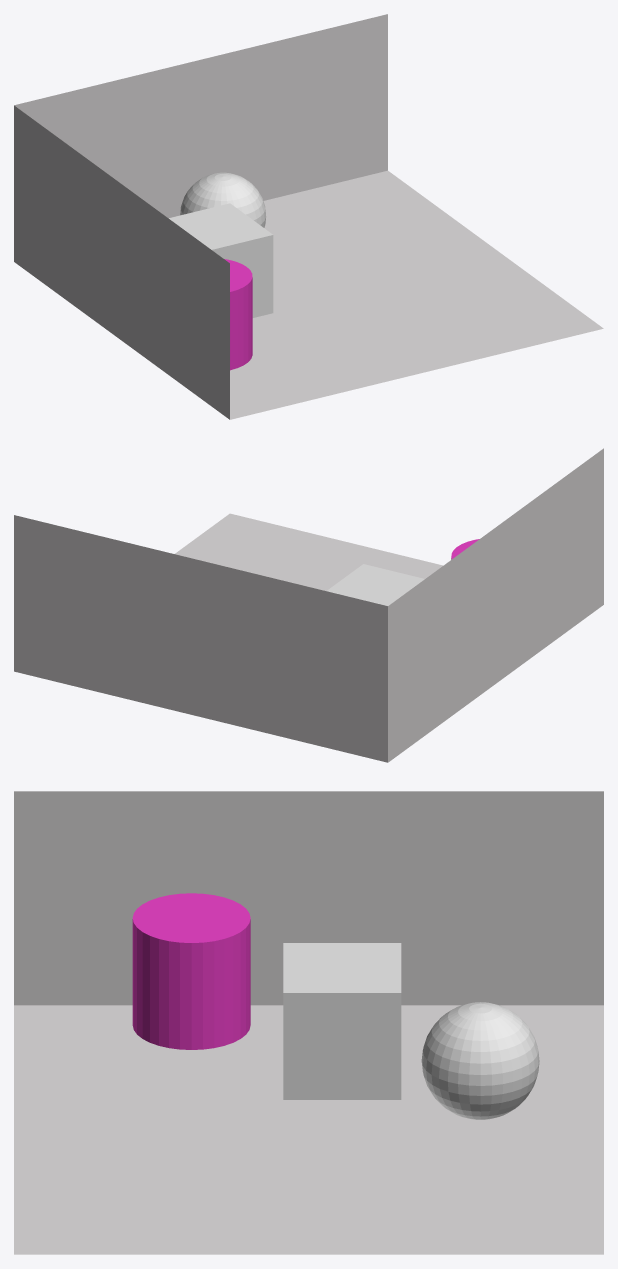
3 views of the same model, one above another, from view 1: azimuth 30°, elevation 25°; view 2: azimuth 150°, elevation 25°; view 3: azimuth 270°, elevation 25° (orthographic). The views are drawn at different scales.
Visible parts, largest first — view 1: Cube, Cube.001, Sphere, Cylinder; view 2: Cube, Cube.001; view 3: Cube, Cube.001, Cylinder, Sphere.
Boxes of the visible parts, x1,y1,x2,y2 form: Cube: (14,14,603,419); Cube.001: (169,203,273,317); Sphere: (180,172,266,227); Cylinder: (224,259,252,370); Cube: (14,448,603,762); Cube.001: (326,564,424,605); Cube: (14,791,603,1254); Cube.001: (283,943,401,1099); Cylinder: (132,893,250,1049); Sphere: (421,1002,539,1119).
Bounding box in the file's own units: 10 × 10 × 4.
